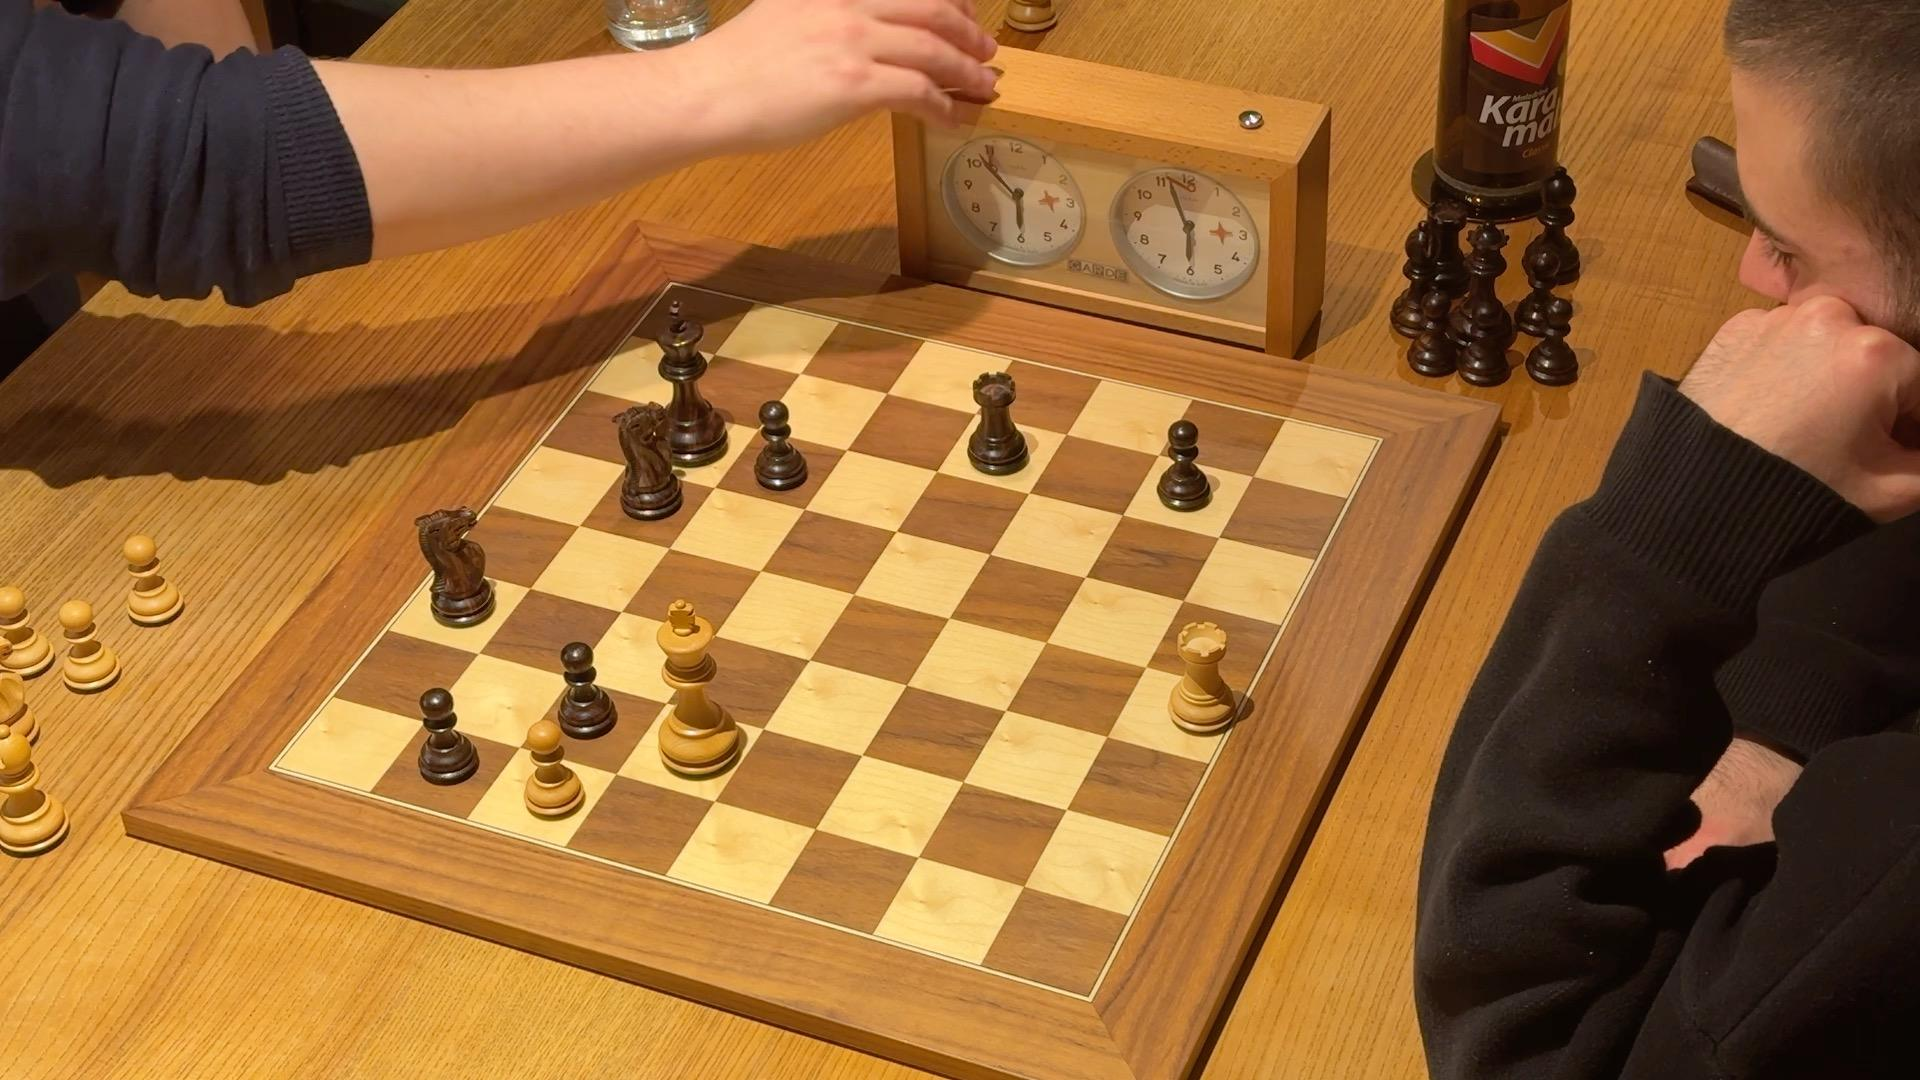Black King: (647, 298, 740, 477)
Black Knight: (411, 498, 498, 632), (608, 405, 688, 526)
Black Pawn: (414, 683, 484, 793), (551, 638, 620, 742), (749, 397, 807, 492), (1155, 419, 1213, 513)
Black Rook: (959, 369, 1036, 479)
White King: (653, 599, 740, 783)
White Pawn: (514, 713, 589, 829)
White Rook: (1164, 618, 1242, 738)
